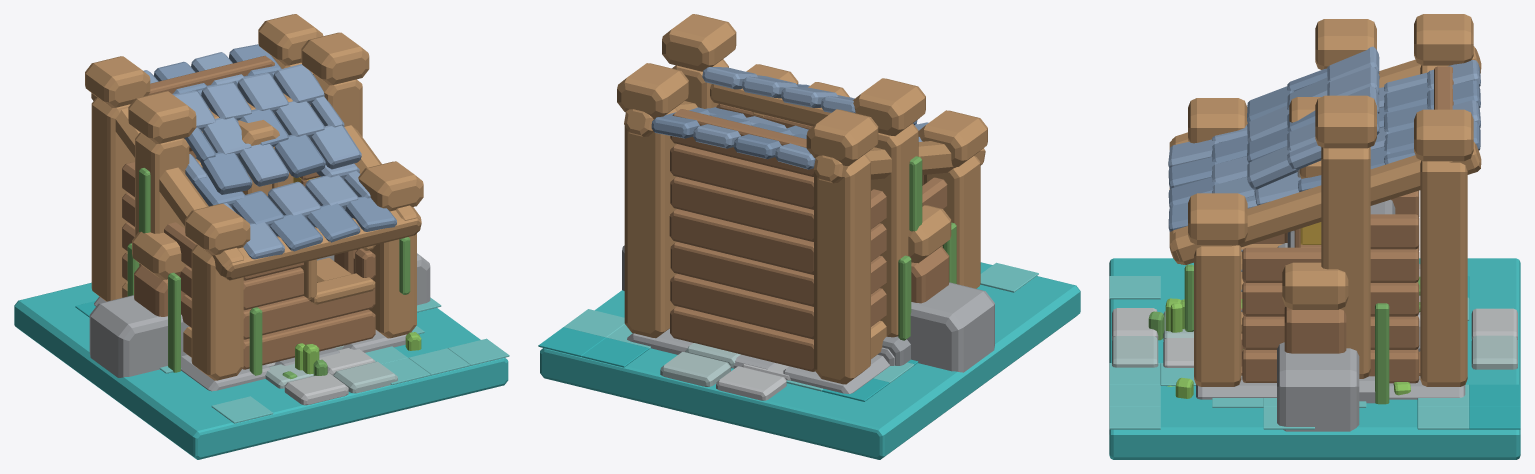
File: drowned_village_kit_roblox.glb
The picture shows the model from 3 angles, left to right: view 1: azimuth 30°, elevation 25°; view 2: azimuth 150°, elevation 25°; view 3: azimuth 270°, elevation 25°; orthographic projection. The views are drawn at different scales.
Visible parts, largest first — view 1: House_Corner, Water_Path_Tile, House_Facade, Stone_Wall, Wooden_Gate, Lantern_Post; view 2: House_Corner, Water_Path_Tile, House_Facade, Stone_Wall, Wooden_Gate; view 3: House_Corner, Water_Path_Tile, House_Facade, Stone_Wall, Wooden_Gate, Lantern_Post, Corner_Pillar, Lantern_Post_Glow.
Boxes of the visible parts, bbox=[...] form: House_Corner: bbox=[85, 14, 423, 391]; Water_Path_Tile: bbox=[14, 282, 509, 459]; House_Facade: bbox=[128, 32, 369, 265]; Stone_Wall: bbox=[89, 253, 430, 377]; Wooden_Gate: bbox=[132, 231, 356, 316]; Lantern_Post: bbox=[238, 120, 319, 195]; House_Corner: bbox=[617, 63, 987, 393]; Water_Path_Tile: bbox=[538, 262, 1080, 459]; House_Facade: bbox=[662, 14, 925, 365]; Stone_Wall: bbox=[622, 245, 994, 372]; Wooden_Gate: bbox=[908, 205, 951, 303]; House_Corner: bbox=[1148, 14, 1481, 404]; Water_Path_Tile: bbox=[1109, 258, 1520, 459]; House_Facade: bbox=[1247, 19, 1379, 403]; Stone_Wall: bbox=[1277, 342, 1359, 431]; Wooden_Gate: bbox=[1241, 232, 1348, 366]; Lantern_Post: bbox=[1289, 97, 1321, 247]; Corner_Pillar: bbox=[1241, 199, 1395, 349]; Lantern_Post_Glow: bbox=[1300, 222, 1321, 244].
Bounding box in the file's own units: 4 × 3.43 × 4.
